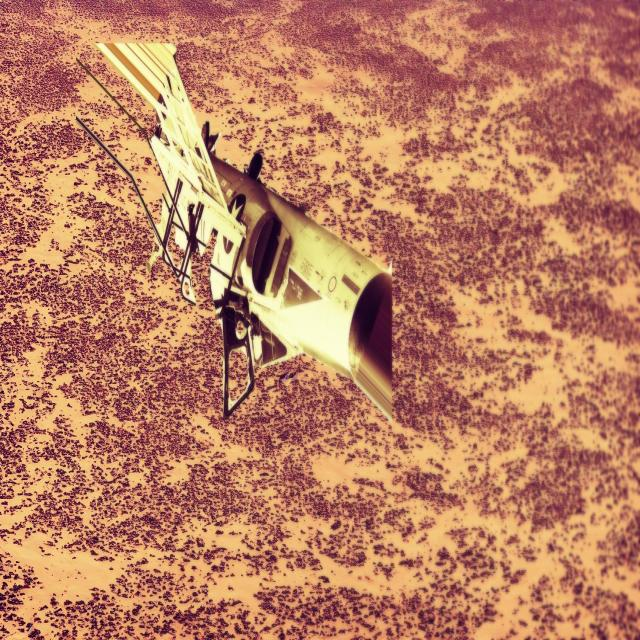airplane: (75, 38, 394, 423)
